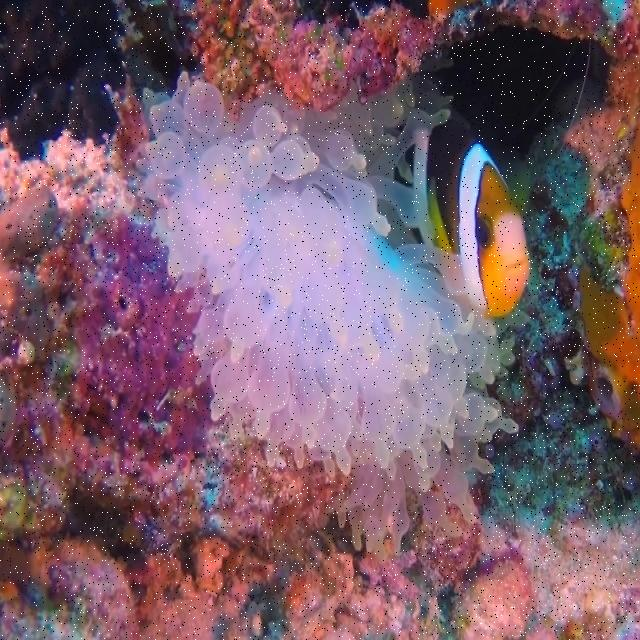fish: (394, 118, 530, 320)
reefs: (138, 71, 519, 561)
